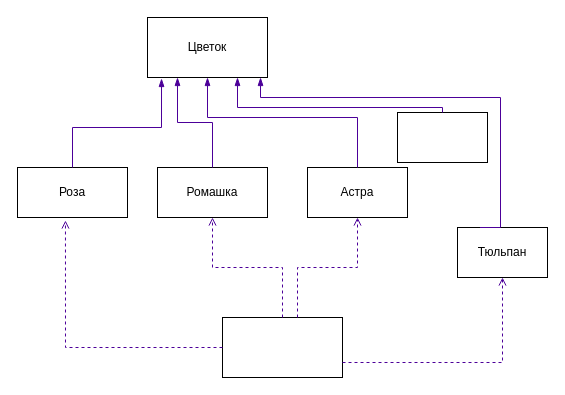
Image size: 565x395. Some labels were removed from this diagram. The shapes that lost their labels are listed below. From the top down, each one's centre as x and y in pixels, then its label:
At (442,137): "Розовый куст".
At (282,347): "Букет".
